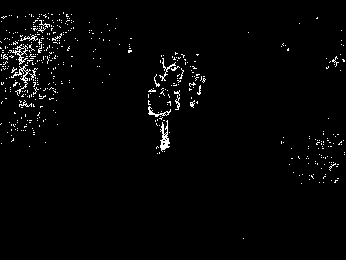person: (147, 75, 171, 151)
